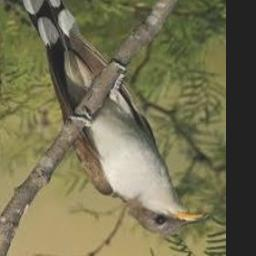Cuckoo: (10, 0, 207, 235)
